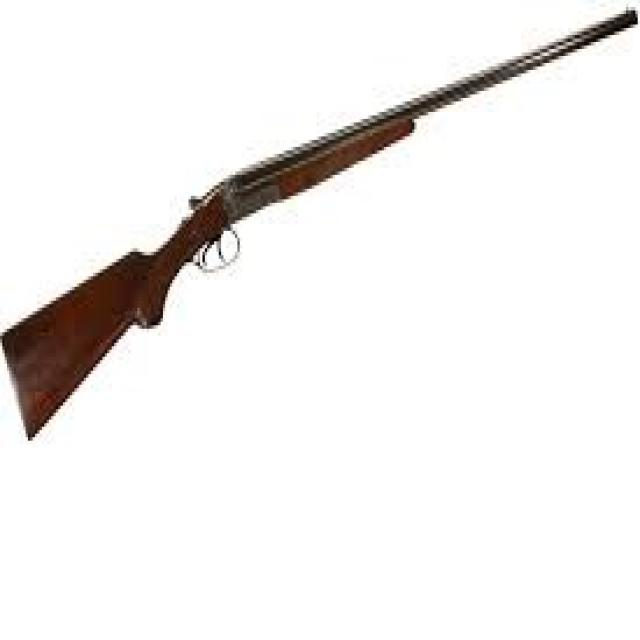rifle: (1, 1, 640, 456)
